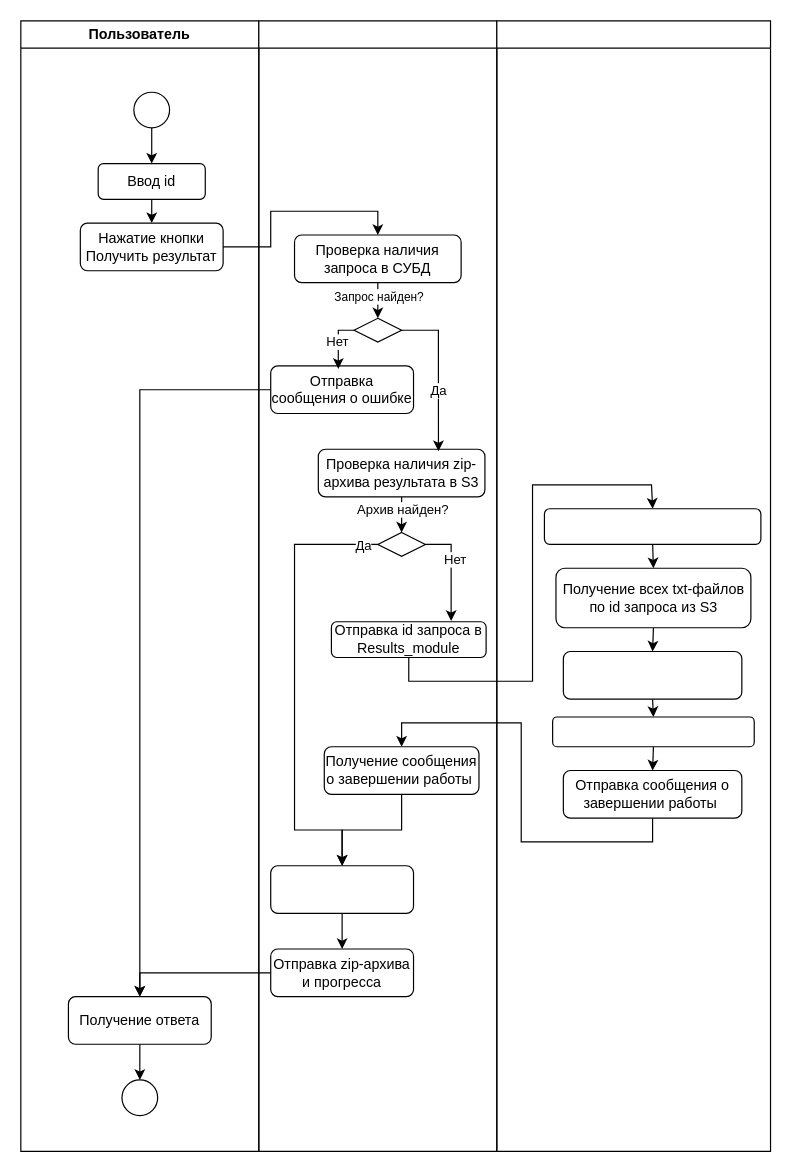
Some shapes in this 791 by 1172 pixel diagram are drawn without their labels. The box of each missing label's shape, as (x1, y1, x2, y2) in pixels:
API: (258, 20, 497, 1151)
Results_module: (496, 20, 771, 1151)
Получение прогресса из СУБД: (270, 865, 414, 913)
Получение сообщение из API: (543, 508, 761, 544)
Создание zip-архива результатов: (562, 650, 742, 699)
Сохранение zip-архива в S3: (551, 716, 754, 747)
